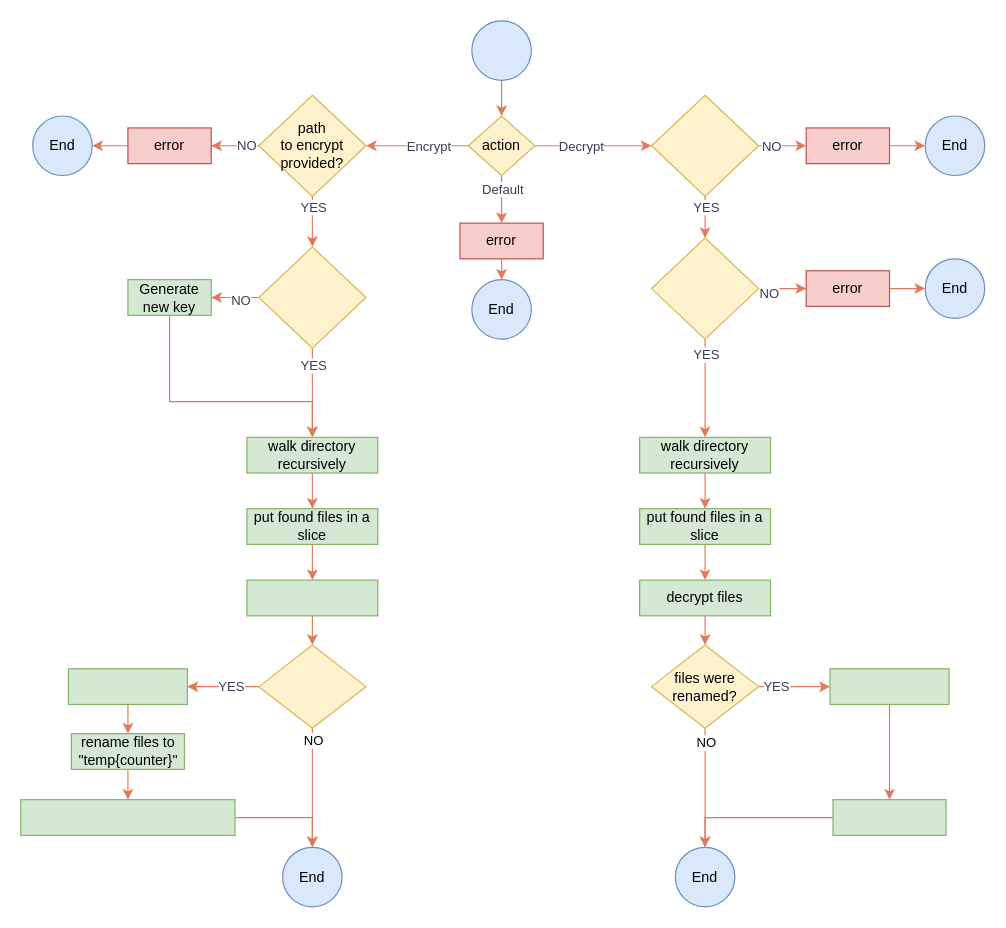
The diagram is 1006 pixels wide and 928 high, and some of its shapes have lost their labels. The shapes that lost their labels are listed below. From the top down, each one's centre as x and y in pixels, then its label:
[501,50]: Start
[704,145]: path to decrypt provided?
[312,297]: Key provided?
[704,288]: cfg file provided?
[312,597]: encrypt files
[127,686]: encrypt file names
[312,686]: rename files?
[889,686]: decrypt file names
[127,816]: write to cfg file "temp{counter}" : {encrypted name}
[889,816]: rename files
